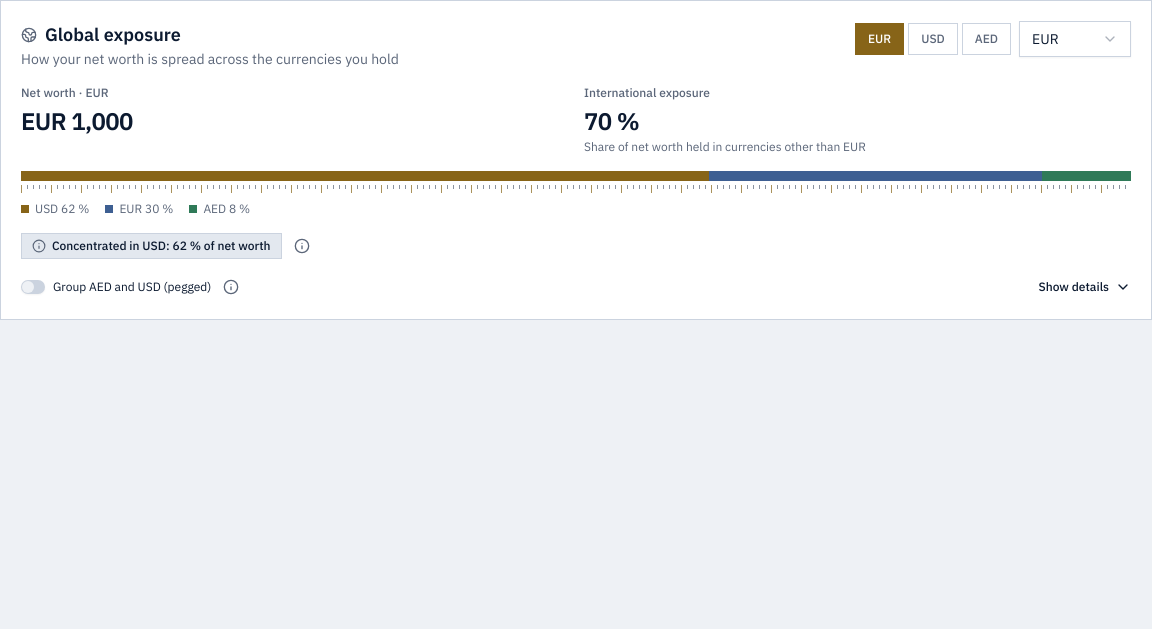
Scenario: AED / USD peg grouping › is off by default and merges the two into one block when switched on, remembered in localStorage
The image size is (1152, 629).
Click the button "Show details".
click(1085, 287)  # box [1038, 279, 1131, 295]
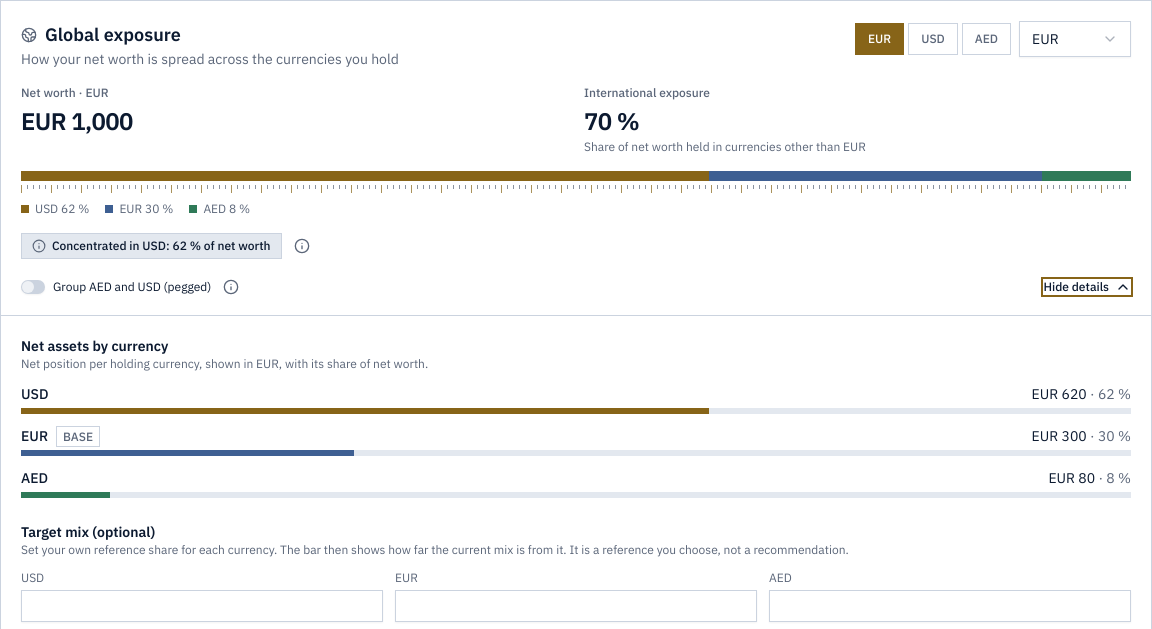
Click the switch named "group aed and usd".
click(33, 287)  # box [21, 280, 45, 294]
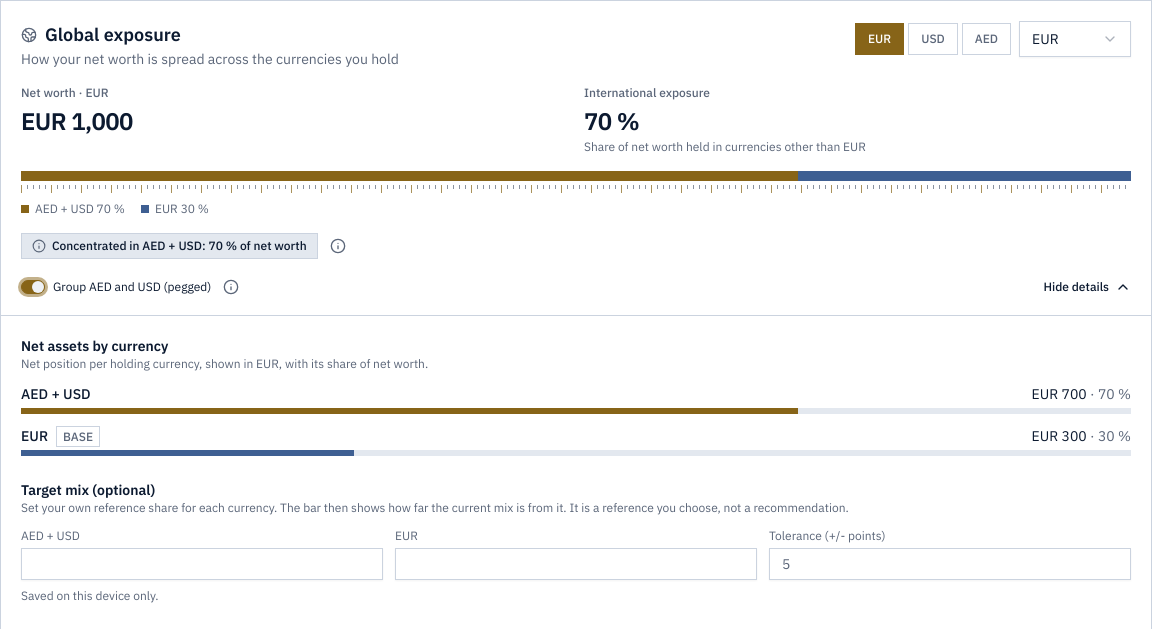
Click the switch named "group aed and usd".
click(33, 287)  # box [21, 280, 45, 294]
(page scrolled)
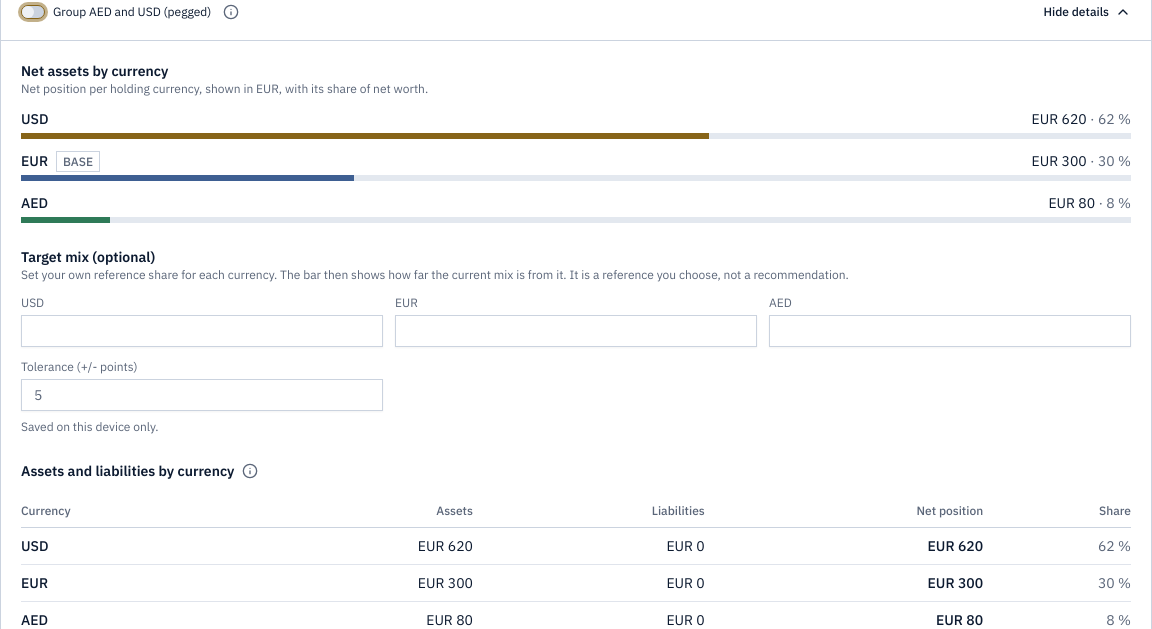
Result: the row with test id "fx-row-USD" is shown at [21, 528, 1131, 564]
